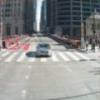cars: (35, 42, 53, 57)
